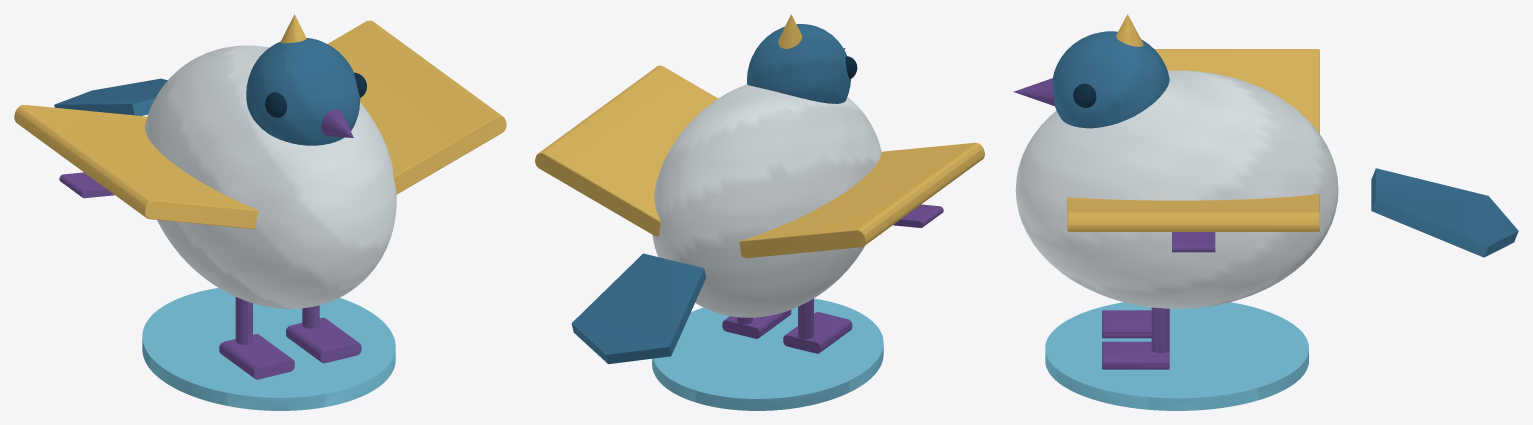
Rendered from 0406_极地动物图鉴_雪鸮.glb.
3 renders of one model, left to right at view 1: azimuth 30°, elevation 25°; view 2: azimuth 150°, elevation 25°; view 3: azimuth 270°, elevation 25°, orthographic. The views are drawn at different scales.
Parts seen in each view (by area): view 1: card_0406; view 2: card_0406; view 3: card_0406.
Boxes of the visible parts, box(x1,y1,x2,y2) form: card_0406: box(14, 14, 506, 410); card_0406: box(535, 14, 984, 410); card_0406: box(1013, 14, 1518, 410).
Size of the model in its own units: 1.11 by 1 by 1.32.
